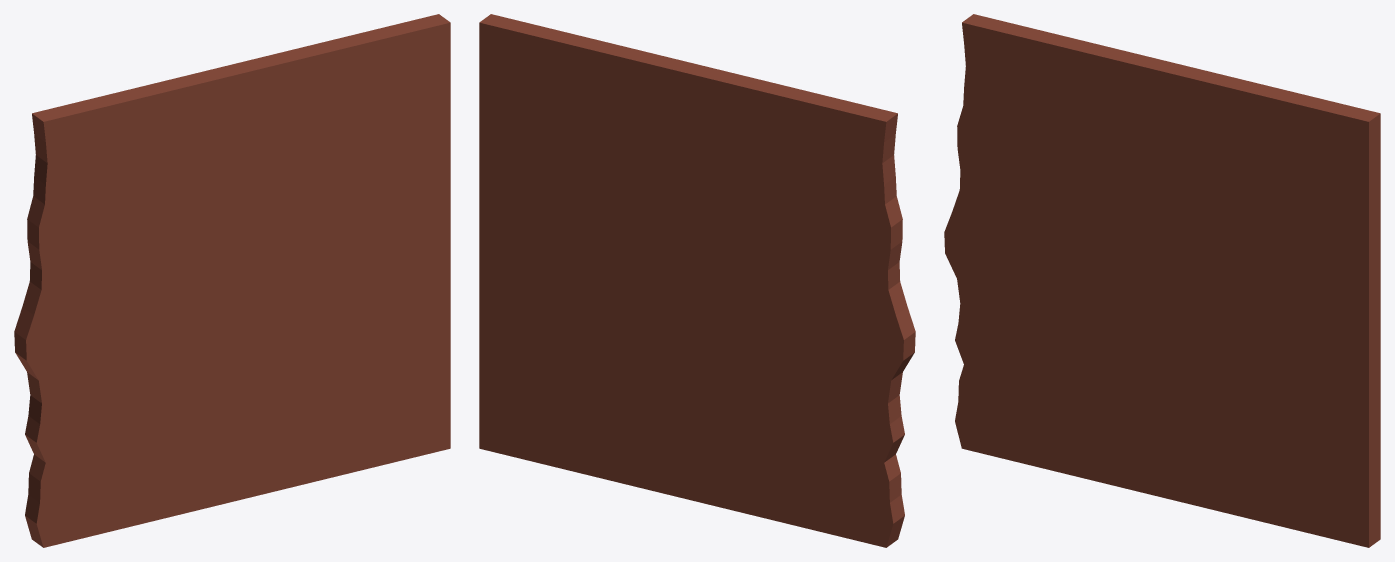
The model's file is Tile08.glb.
3 views of the same model, side by side, from view 1: azimuth 30°, elevation 25°; view 2: azimuth 150°, elevation 25°; view 3: azimuth 330°, elevation 25° (orthographic).
Visible parts, largest first — view 1: 08; view 2: 08; view 3: 08.
Boxes of the visible parts, x1,y1,x2,y2 form: 08: (14, 14, 450, 547); 08: (479, 14, 915, 547); 08: (944, 14, 1380, 547).
Bounding box in the file's own units: 2.09 × 2 × 0.1.
1 material, 1 textured.
